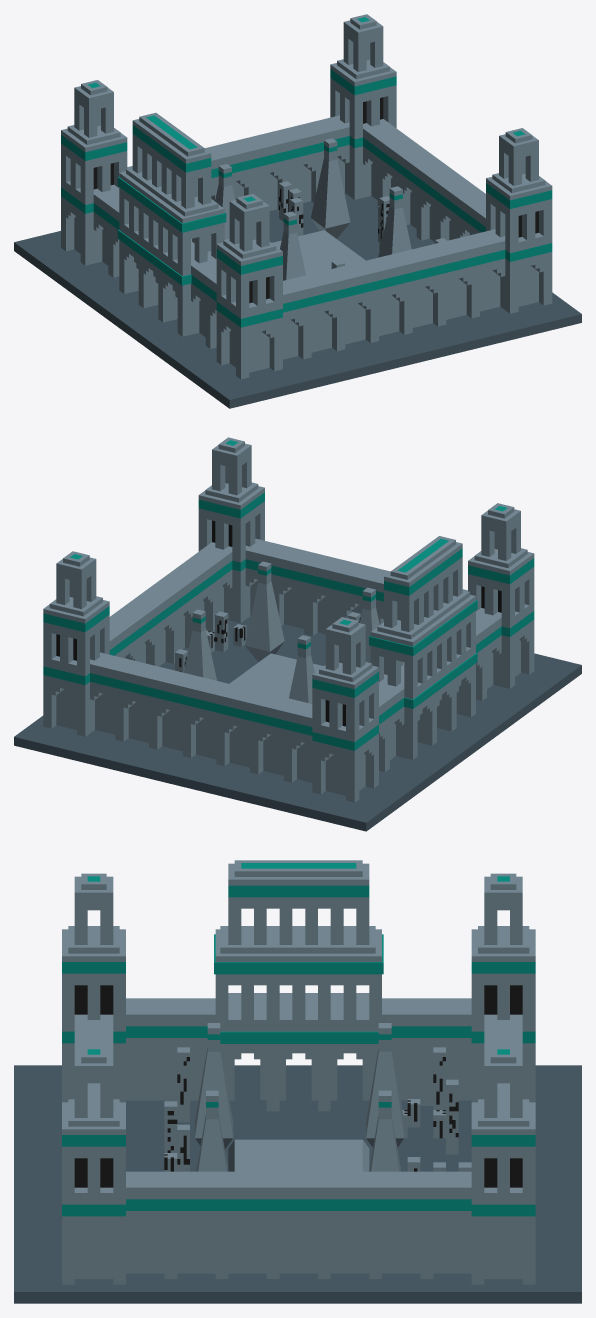
File: Necropolis walls V2.glb
3 renders of one model, top to bottom at view 1: azimuth 30°, elevation 25°; view 2: azimuth 150°, elevation 25°; view 3: azimuth 270°, elevation 25°, orthographic. The views are drawn at different scales.
Visible parts, largest first — view 1: group1759508002, group61099129, group25771445, group893479836, group439534883, group929500499, group107630194, group316226169, group1471486301, group1683549357, group2109566069, group607075928 (+28 smaller); view 2: group1759508002, group439534883, group61099129, group25771445, group893479836, group649434943, group1683549357, group316226169, group107630194, group1471486301, group929500499, group745435237 (+47 smaller); view 3: group1759508002, group439534883, group893479836, group25771445, group316226169, group107630194, group1471486301, group1334222259, group850211741, group2109566069, group745435237, group607075928 (+38 smaller).
Part boxes in pixels (x1=…): group1759508002: x1=14, y1=193, x2=581, y2=408; group61099129: x1=283, y1=230, x2=505, y2=359; group25771445: x1=216, y1=193, x2=282, y2=379; group893479836: x1=486, y1=128, x2=552, y2=313; group439534883: x1=363, y1=122, x2=485, y2=241; group929500499: x1=311, y1=138, x2=350, y2=238; group107630194: x1=93, y1=184, x2=138, y2=291; group316226169: x1=191, y1=256, x2=216, y2=348; group1471486301: x1=272, y1=230, x2=365, y2=275; group1683549357: x1=378, y1=186, x2=411, y2=257; group2109566069: x1=280, y1=211, x2=305, y2=280; group607075928: x1=117, y1=177, x2=226, y2=232; group1759508002: x1=14, y1=616, x2=581, y2=831; group439534883: x1=109, y1=545, x2=232, y2=666; group61099129: x1=245, y1=539, x2=467, y2=635; group25771445: x1=468, y1=503, x2=534, y2=688; group893479836: x1=198, y1=437, x2=264, y2=622; group649434943: x1=250, y1=694, x2=297, y2=782; group1683549357: x1=245, y1=561, x2=284, y2=661; group316226169: x1=456, y1=608, x2=501, y2=715; group107630194: x1=379, y1=679, x2=404, y2=771; group1471486301: x1=229, y1=653, x2=323, y2=698; group929500499: x1=183, y1=609, x2=216, y2=680; group745435237: x1=289, y1=635, x2=314, y2=703; group1759508002: x1=14, y1=1065, x2=581, y2=1303; group439534883: x1=126, y1=1171, x2=471, y2=1278; group893479836: x1=62, y1=1046, x2=125, y2=1284; group25771445: x1=62, y1=873, x2=125, y2=1102; group316226169: x1=126, y1=998, x2=215, y2=1101; group107630194: x1=382, y1=998, x2=471, y2=1105; group1471486301: x1=228, y1=1139, x2=369, y2=1171; group1334222259: x1=228, y1=993, x2=369, y2=1031; group850211741: x1=220, y1=926, x2=375, y2=953; group2109566069: x1=194, y1=1023, x2=233, y2=1149; group745435237: x1=366, y1=1023, x2=404, y2=1147; group607075928: x1=214, y1=934, x2=383, y2=974.
Bounding box in the file's own units: 3.35 × 1.68 × 3.55.
